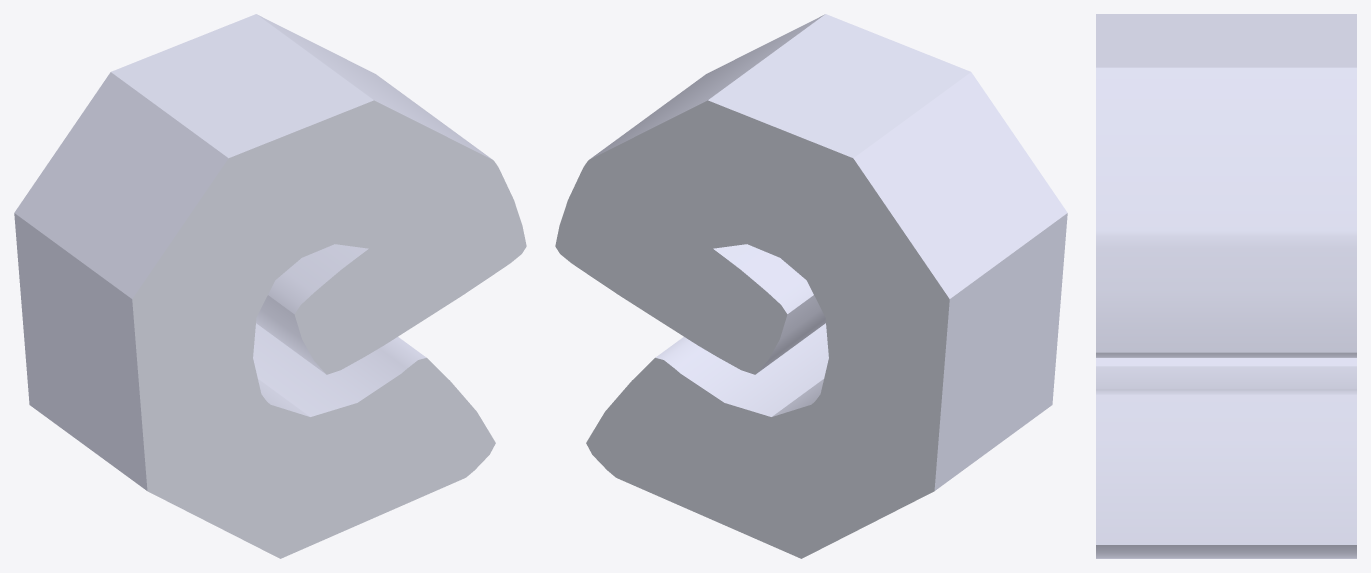
File: E_Zyzol_Grey.glb
3 renders of one model, left to right at view 1: azimuth 30°, elevation 25°; view 2: azimuth 150°, elevation 25°; view 3: azimuth 270°, elevation 25°, orthographic. The views are drawn at different scales.
Parts seen in each view (by area): view 1: e_Zyzol_Grey; view 2: e_Zyzol_Grey; view 3: e_Zyzol_Grey.
Boxes of the visible parts, x1,y1,x2,y2 form: e_Zyzol_Grey: (14, 14, 526, 558); e_Zyzol_Grey: (555, 14, 1067, 558); e_Zyzol_Grey: (1096, 14, 1356, 558).
Size of what is drawn, in the model's own units: 0.0869 by 0.0917 by 0.045.
Materials: 2 (2 with a texture image).
